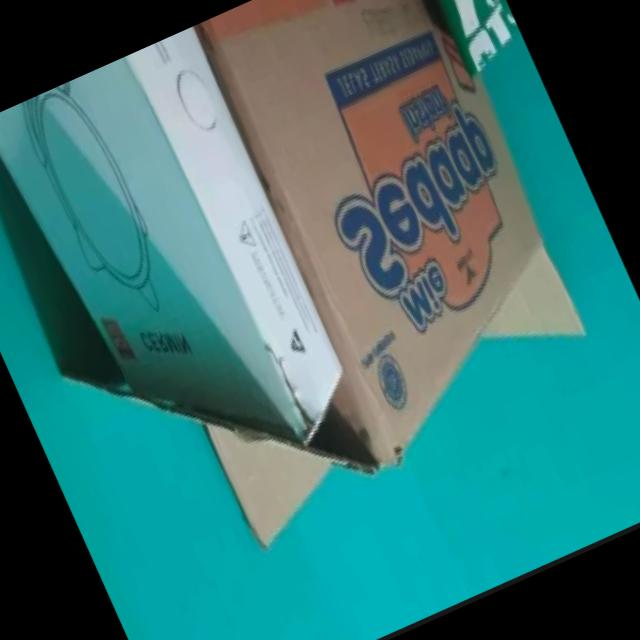Kardus: (52, 0, 617, 542), (0, 28, 370, 520), (404, 0, 530, 81)
